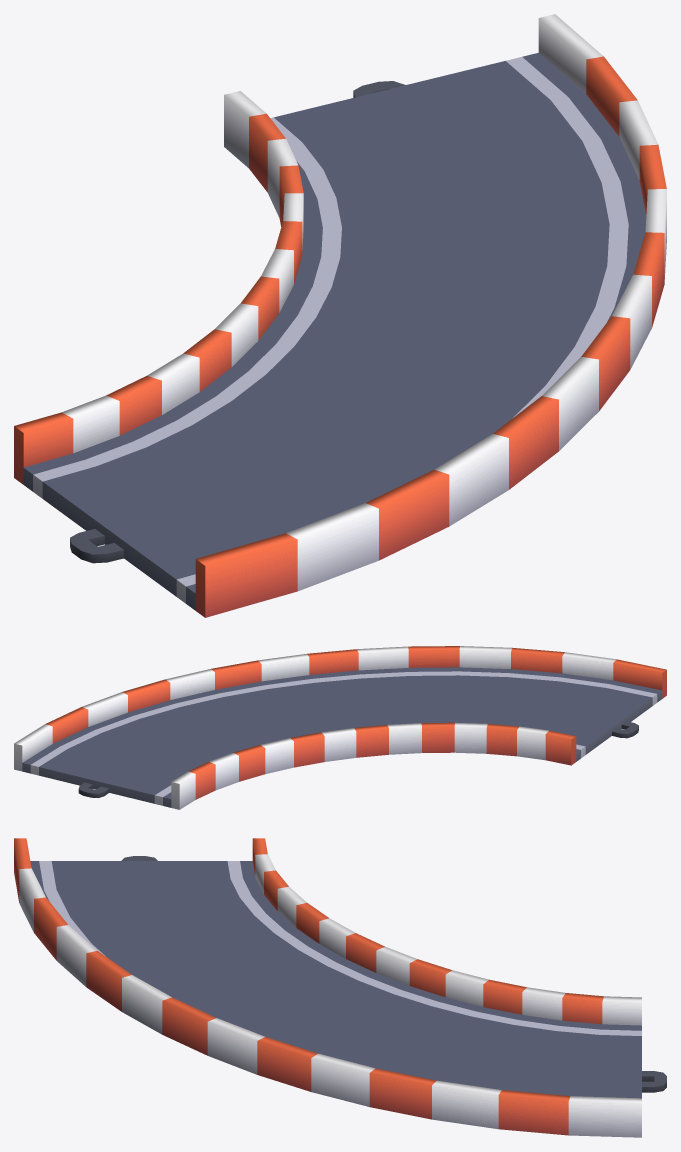
The model's file is track-road-wide-corner-large.glb.
3 views of the same model, one above another, from view 1: azimuth 30°, elevation 25°; view 2: azimuth 150°, elevation 25°; view 3: azimuth 270°, elevation 25° (orthographic). The views are drawn at different scales.
Visible parts, largest first — view 1: track-road-wide-corner-large; view 2: track-road-wide-corner-large; view 3: track-road-wide-corner-large.
Part boxes in pixels (x1,y1,x2,y2): track-road-wide-corner-large: (14, 14, 666, 617); track-road-wide-corner-large: (14, 646, 666, 809); track-road-wide-corner-large: (14, 838, 666, 1137).
Size of the model in its own units: 15.6 by 0.9 by 15.6.
1 material, 1 textured.
